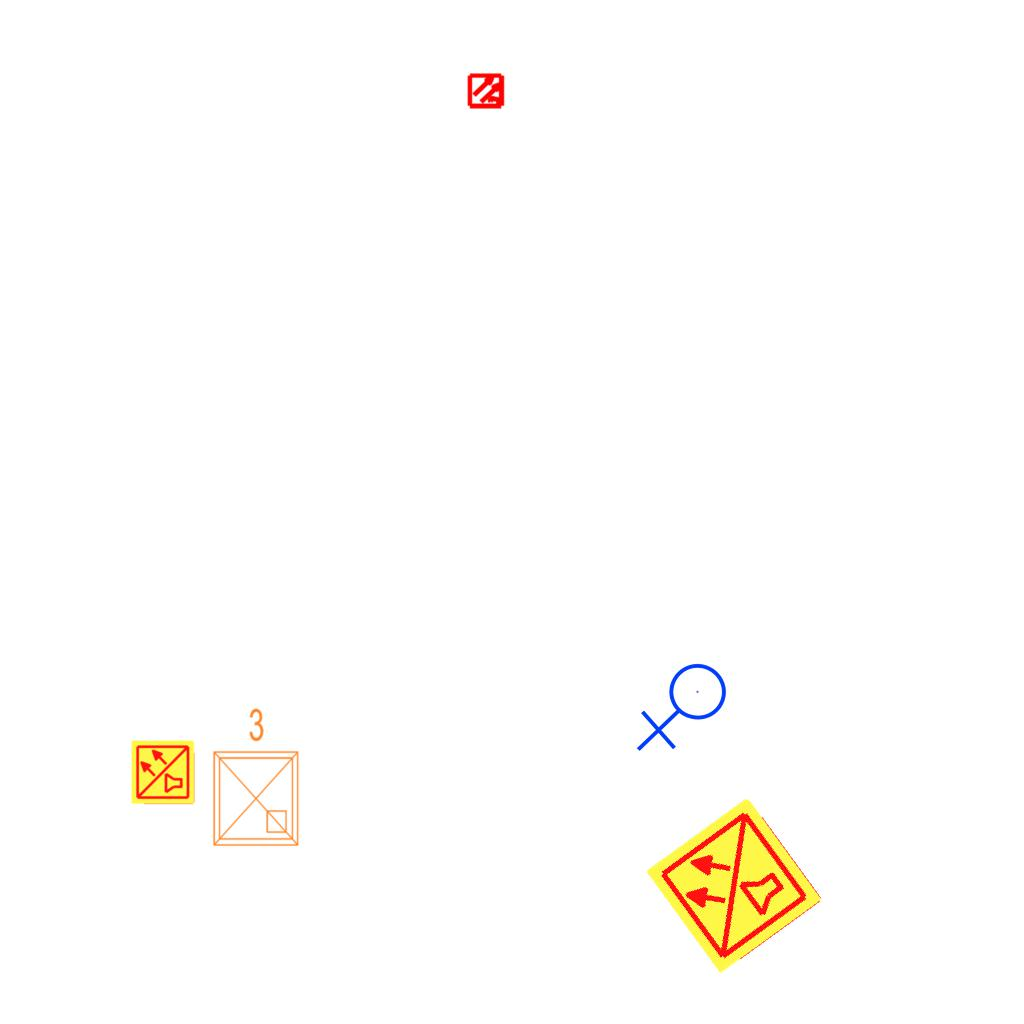Einbaudownlights_LED_Konferenzraeume: (202, 703, 306, 853)
Elektroanschluss_allgemein_230V_Geraeteanschlussdose_230V: (636, 662, 735, 756)
OKW_Multisensormelder_(Kombination_optischer_Rauch-Kahlenmonoxid_Waerme-Melder): (641, 792, 827, 978), (130, 739, 196, 805)
OT_Multisensormelder_(Kombination_RMO_WMD): (459, 63, 515, 119)
